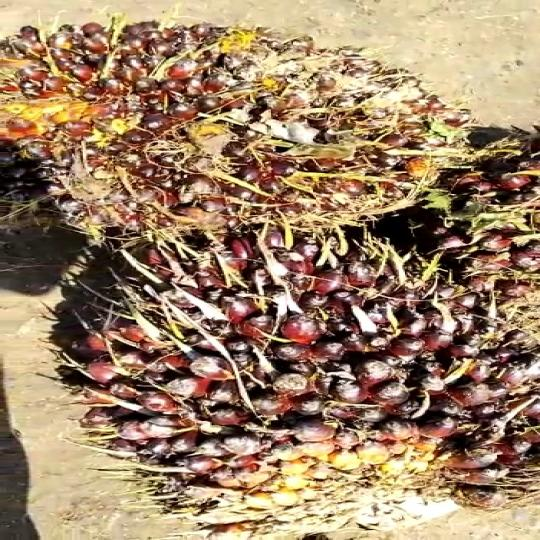kurang masak: (80, 223, 540, 540), (0, 4, 450, 259)
